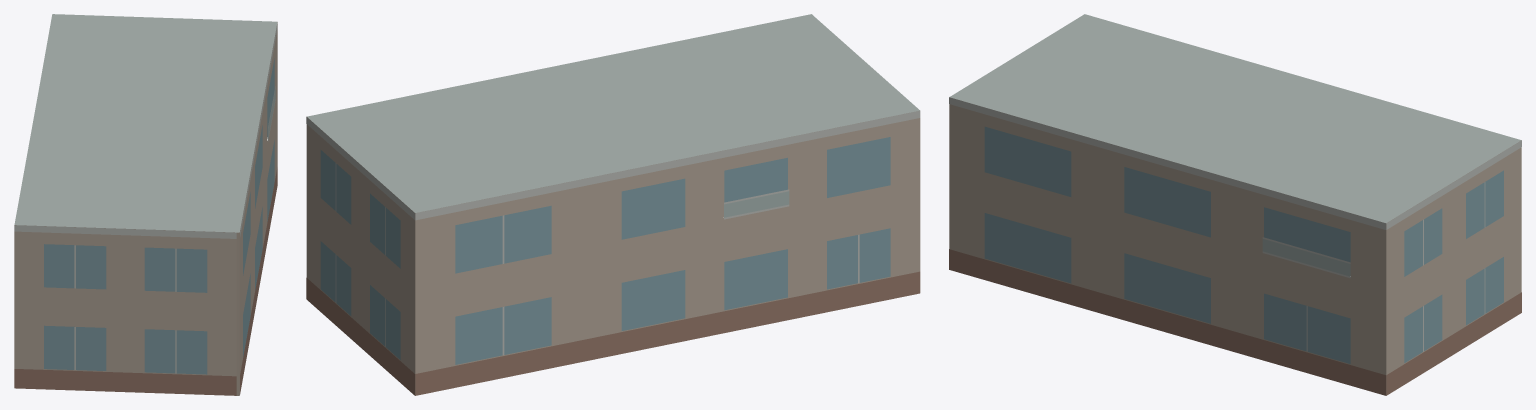
Rendered from survey-upis-32704773.glb.
The picture shows the model from 3 angles, left to right: view 1: azimuth 30°, elevation 25°; view 2: azimuth 150°, elevation 25°; view 3: azimuth 270°, elevation 25°; orthographic projection. The views are drawn at different scales.
Parts seen in each view (by area): view 1: survey-upis-32704773.tmp; view 2: survey-upis-32704773.tmp; view 3: survey-upis-32704773.tmp.
Boxes of the visible parts, x1,y1,x2,y2 form: survey-upis-32704773.tmp: [14, 14, 277, 395]; survey-upis-32704773.tmp: [306, 14, 920, 395]; survey-upis-32704773.tmp: [949, 14, 1521, 395].
Bounding box in the file's own units: 15.87 × 6.1 × 18.35.
